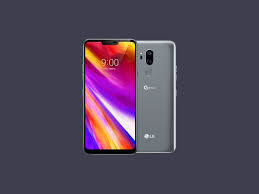lg: (79, 34, 179, 158), (81, 35, 137, 156), (134, 38, 178, 154)
